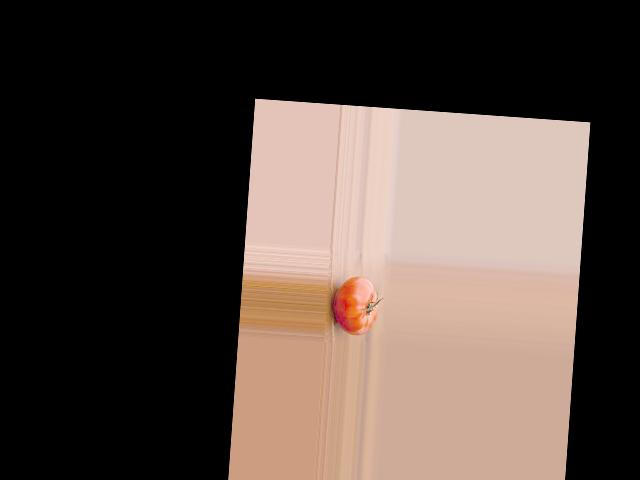tomato: (331, 274, 380, 336)
